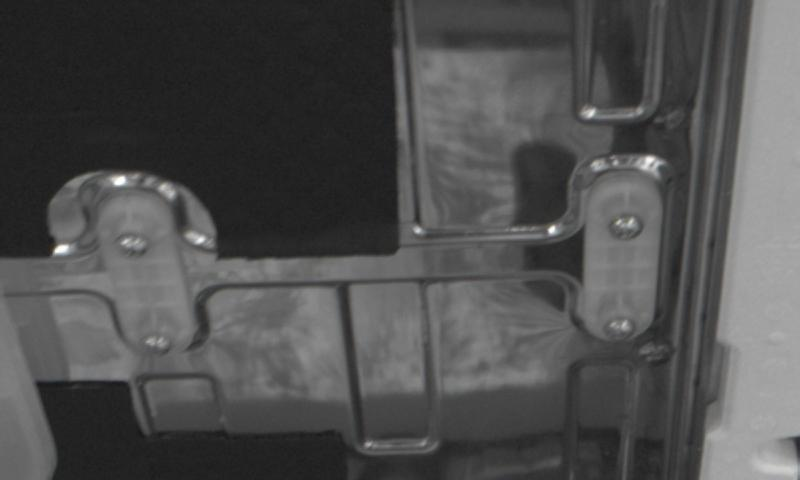vida-ok: (108, 222, 154, 266), (603, 208, 650, 251), (597, 310, 643, 349), (132, 323, 177, 362)
